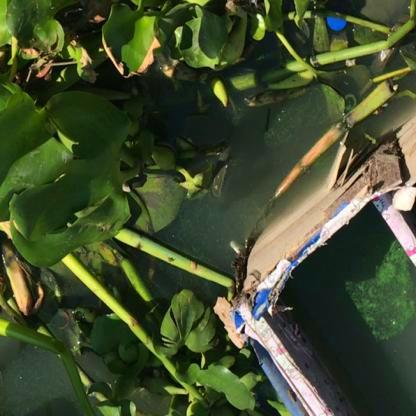Plastic: (321, 8, 353, 42)
Trash: (190, 127, 416, 416)
